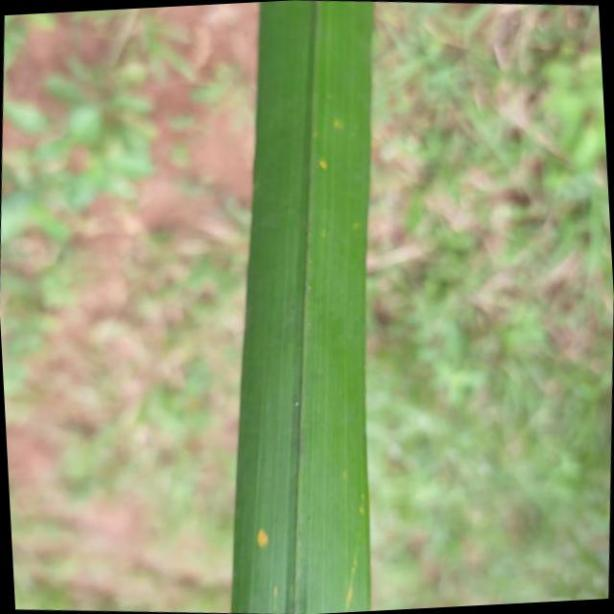Kalium: (227, 0, 374, 612)
